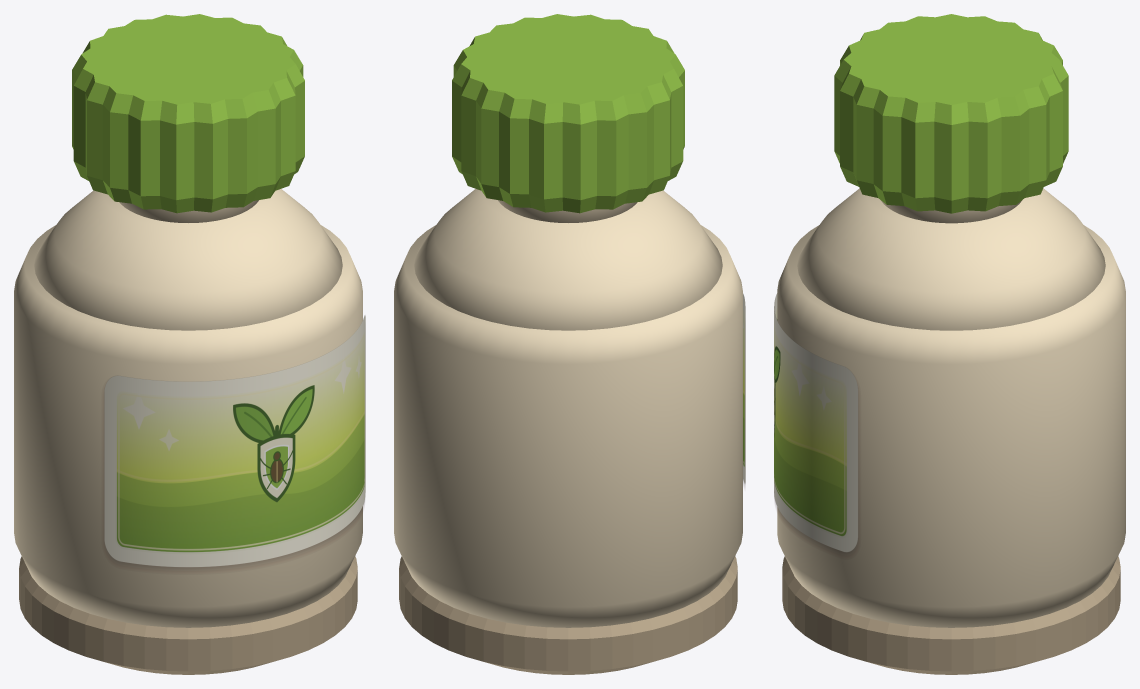
File: LiquidPreparationBottleBeetleControl.glb
The picture shows the model from 3 angles, left to right: view 1: azimuth 30°, elevation 25°; view 2: azimuth 150°, elevation 25°; view 3: azimuth 270°, elevation 25°; orthographic projection.
Parts seen in each view (by area): view 1: LiquidPreparationBottleBeetleControl_Body, LiquidPreparationBottleBeetleControl_Label, LiquidPreparationBottleBeetleControl_Cap, LiquidPreparationBottleBeetleControl_Shoulder, LiquidPreparationBottleBeetleControl_Base_Rim, LiquidPreparationBottleBeetleControl_Neck; view 2: LiquidPreparationBottleBeetleControl_Body, LiquidPreparationBottleBeetleControl_Cap, LiquidPreparationBottleBeetleControl_Shoulder, LiquidPreparationBottleBeetleControl_Base_Rim, LiquidPreparationBottleBeetleControl_Neck, LiquidPreparationBottleBeetleControl_Label; view 3: LiquidPreparationBottleBeetleControl_Body, LiquidPreparationBottleBeetleControl_Cap, LiquidPreparationBottleBeetleControl_Shoulder, LiquidPreparationBottleBeetleControl_Label, LiquidPreparationBottleBeetleControl_Base_Rim, LiquidPreparationBottleBeetleControl_Neck.
Part boxes in pixels (bbox=[...]): LiquidPreparationBottleBeetleControl_Body: bbox=[14, 225, 362, 627]; LiquidPreparationBottleBeetleControl_Label: bbox=[104, 315, 365, 570]; LiquidPreparationBottleBeetleControl_Cap: bbox=[72, 14, 304, 213]; LiquidPreparationBottleBeetleControl_Shoulder: bbox=[34, 189, 342, 330]; LiquidPreparationBottleBeetleControl_Base_Rim: bbox=[19, 556, 357, 674]; LiquidPreparationBottleBeetleControl_Neck: bbox=[119, 200, 258, 222]; LiquidPreparationBottleBeetleControl_Body: bbox=[394, 225, 742, 627]; LiquidPreparationBottleBeetleControl_Cap: bbox=[452, 14, 684, 213]; LiquidPreparationBottleBeetleControl_Shoulder: bbox=[414, 189, 722, 330]; LiquidPreparationBottleBeetleControl_Base_Rim: bbox=[399, 556, 737, 674]; LiquidPreparationBottleBeetleControl_Neck: bbox=[498, 200, 637, 222]; LiquidPreparationBottleBeetleControl_Label: bbox=[743, 293, 745, 485]; LiquidPreparationBottleBeetleControl_Body: bbox=[777, 225, 1125, 627]; LiquidPreparationBottleBeetleControl_Cap: bbox=[834, 14, 1068, 213]; LiquidPreparationBottleBeetleControl_Shoulder: bbox=[797, 188, 1105, 330]; LiquidPreparationBottleBeetleControl_Label: bbox=[774, 293, 858, 554]; LiquidPreparationBottleBeetleControl_Base_Rim: bbox=[782, 556, 1120, 674]; LiquidPreparationBottleBeetleControl_Neck: bbox=[881, 200, 1021, 223].
Bounding box in the file's own units: 0.69 × 1.23 × 0.696.
5 materials, 1 textured.
